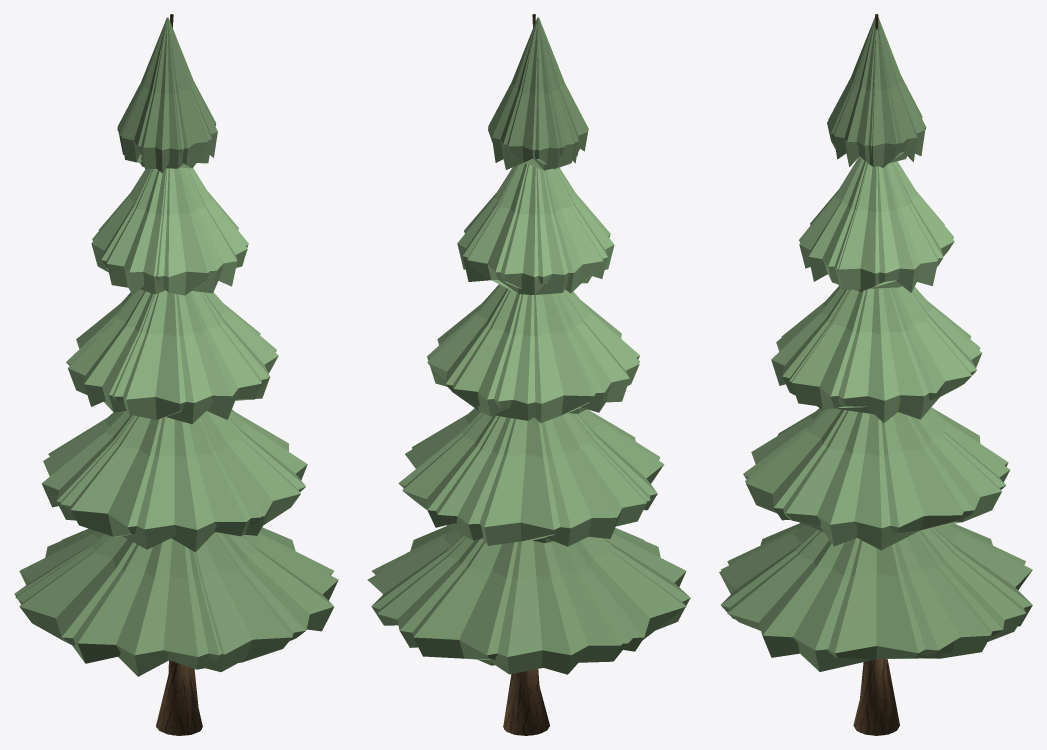
File: env_tree_pine_a_v001.glb
The picture shows the model from 3 angles, left to right: view 1: azimuth 30°, elevation 25°; view 2: azimuth 150°, elevation 25°; view 3: azimuth 270°, elevation 25°; orthographic projection.
Parts seen in each view (by area): view 1: env_tree_pine_a_LOD0_mesh, env_tree_pine_a_LOD1_mesh, env_tree_pine_a_LOD2_mesh; view 2: env_tree_pine_a_LOD0_mesh, env_tree_pine_a_LOD1_mesh, env_tree_pine_a_LOD2_mesh; view 3: env_tree_pine_a_LOD0_mesh, env_tree_pine_a_LOD1_mesh, env_tree_pine_a_LOD2_mesh.
Boxes of the visible parts, x1,y1,x2,y2 form: env_tree_pine_a_LOD0_mesh: [19, 15, 334, 735]; env_tree_pine_a_LOD1_mesh: [15, 14, 338, 735]; env_tree_pine_a_LOD2_mesh: [14, 15, 272, 735]; env_tree_pine_a_LOD0_mesh: [371, 14, 686, 735]; env_tree_pine_a_LOD1_mesh: [367, 14, 690, 735]; env_tree_pine_a_LOD2_mesh: [377, 17, 646, 733]; env_tree_pine_a_LOD0_mesh: [721, 15, 1032, 735]; env_tree_pine_a_LOD1_mesh: [727, 14, 1025, 734]; env_tree_pine_a_LOD2_mesh: [719, 16, 1006, 735].
Bounding box in the file's own units: 4 × 10 × 4.02.
Materials: 5 (1 with a texture image).
